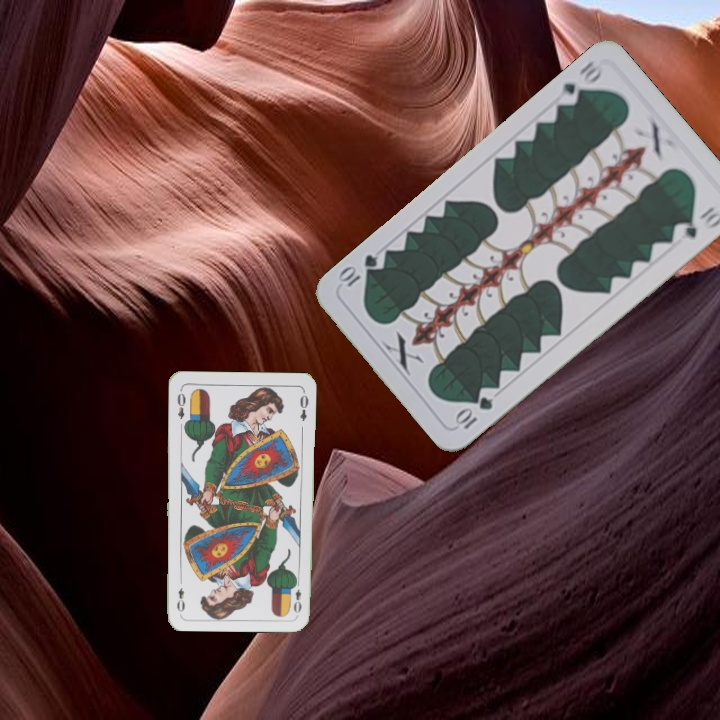EO: (289, 576, 304, 616), (173, 386, 188, 422)
G10: (557, 55, 605, 109), (451, 392, 496, 432)
